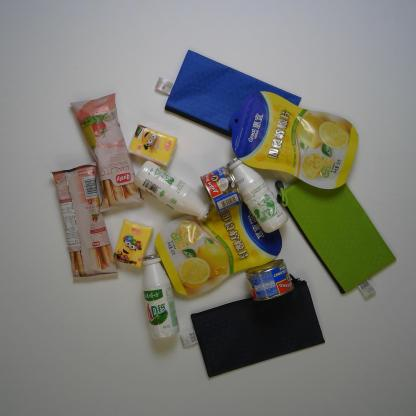Canned Food: (244, 256, 295, 303), (200, 164, 242, 214)
Dessert: (69, 92, 146, 214), (50, 158, 118, 281)
Dried Fruit: (152, 195, 284, 297), (229, 91, 360, 190)
Milk: (133, 159, 213, 223), (225, 156, 289, 235), (140, 252, 181, 340)
Stationery: (177, 272, 327, 379), (275, 178, 397, 298), (154, 48, 303, 138)
Tissue: (112, 218, 156, 269), (127, 124, 179, 167)
